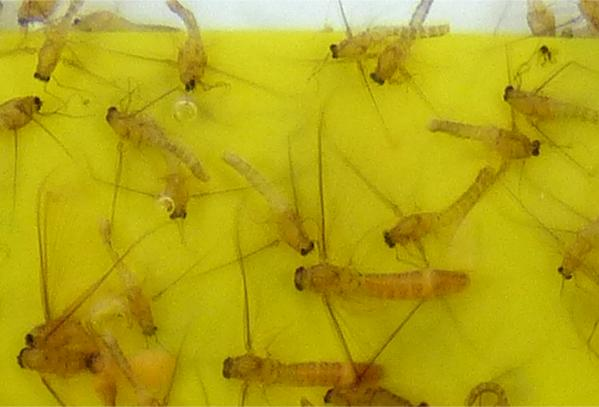Brachycera: (537, 43, 561, 69)
Ephemeroptera: (215, 143, 316, 261), (374, 158, 499, 253), (283, 252, 475, 307), (24, 317, 140, 393), (99, 216, 160, 341), (220, 351, 387, 394), (368, 1, 438, 90), (100, 100, 188, 160), (427, 117, 541, 163), (328, 22, 453, 60), (31, 1, 84, 86), (501, 82, 599, 127), (164, 1, 210, 94), (13, 346, 115, 378), (555, 211, 599, 284), (71, 6, 185, 34), (154, 166, 195, 230), (322, 382, 424, 407), (1, 93, 45, 132), (16, 1, 59, 31)
